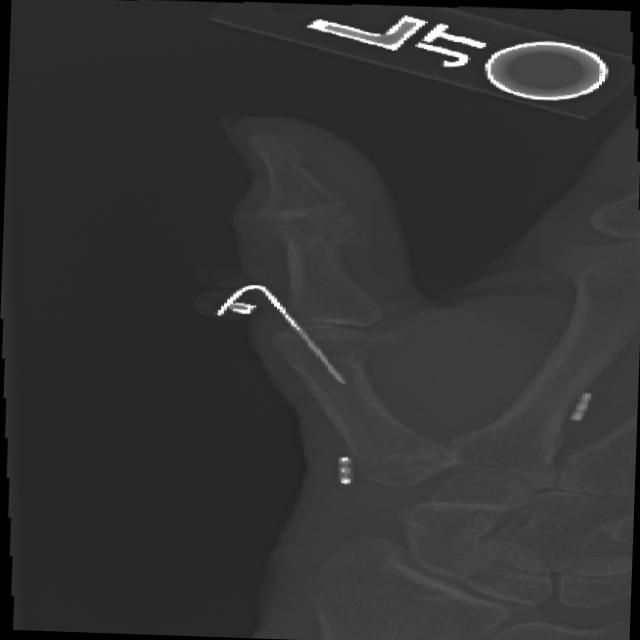fingers positive: (332, 421, 486, 510), (267, 333, 396, 388)
